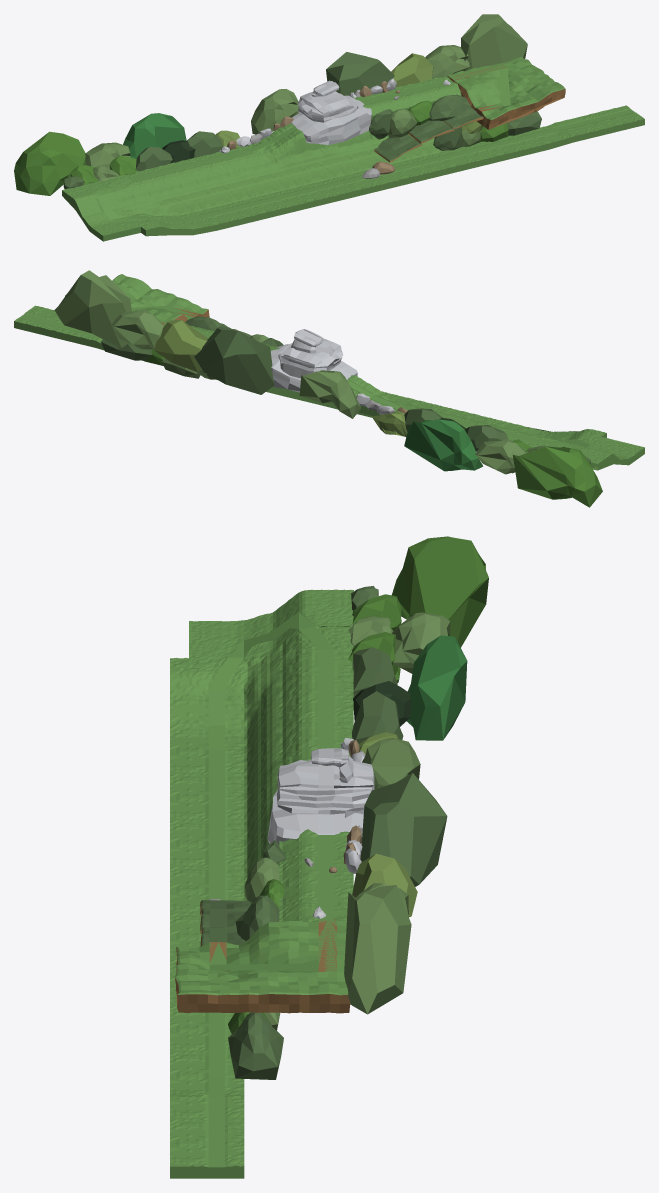
The model's file is 빽빽한숲_바닥산큐브2.fbx.
3 renders of one model, top to bottom at view 1: azimuth 30°, elevation 25°; view 2: azimuth 150°, elevation 25°; view 3: azimuth 270°, elevation 25°, orthographic. The views are drawn at different scales.
Visible parts, largest first — view 1: Island_C_, Island_B, Mountain4.005, Mountain7.003, Island_A, Rock_IslandC, Mountain7.005, Mountain4.004, Mountain4.002, Rock_IslandB, Mountain4.003, Mountain7.004 (+16 smaller); view 2: Island_C_, Mountain4.005, Mountain7.005, Mountain7.003, Mountain4.004, Island_B, Mountain4.002, Mountain7.004, Rock_IslandB, Mountain4.003, Mountain4.001, Rock_IslandC (+6 smaller); view 3: Island_C_, Island_B, Mountain7.003, Mountain4.005, Mountain7.005, Island_A, Mountain4.004, Rock_IslandB, Mountain.004, Rock_IslandC, Mountain4.001, Mountain4.002 (+7 smaller).
Boxes of the visible parts, left/top/right/bottom form: Island_C_: left=62, top=105, right=644, bottom=241; Island_B: left=447, top=57, right=565, bottom=129; Mountain4.005: left=14, top=131, right=85, bottom=195; Mountain7.003: left=461, top=14, right=527, bottom=71; Island_A: left=352, top=76, right=461, bottom=118; Rock_IslandC: left=291, top=95, right=371, bottom=144; Mountain7.005: left=326, top=52, right=394, bottom=95; Mountain4.004: left=123, top=113, right=186, bottom=159; Mountain4.002: left=251, top=89, right=298, bottom=134; Rock_IslandB: left=297, top=91, right=358, bottom=122; Mountain4.003: left=425, top=45, right=469, bottom=78; Mountain7.004: left=391, top=53, right=433, bottom=87; Island_C_: left=14, top=305, right=644, bottom=470; Mountain4.005: left=513, top=446, right=602, bottom=507; Mountain7.005: left=194, top=326, right=274, bottom=394; Mountain7.003: left=54, top=270, right=131, bottom=348; Mountain4.004: left=404, top=419, right=483, bottom=471; Island_B: left=112, top=274, right=209, bottom=326; Mountain4.002: left=299, top=370, right=361, bottom=418; Mountain7.004: left=154, top=320, right=208, bottom=371; Rock_IslandB: left=278, top=338, right=343, bottom=378; Mountain4.003: left=111, top=310, right=163, bottom=352; Mountain4.001: left=475, top=439, right=527, bottom=474; Rock_IslandC: left=270, top=344, right=357, bottom=392; Island_C_: left=170, top=589, right=353, bottom=1178; Island_B: left=174, top=919, right=350, bottom=1013; Mountain7.003: left=344, top=885, right=411, bottom=1014; Mountain4.005: left=392, top=536, right=488, bottom=647; Mountain7.005: left=360, top=773, right=447, bottom=886; Island_A: left=279, top=829, right=353, bottom=922; Mountain4.004: left=407, top=635, right=467, bottom=740; Rock_IslandB: left=277, top=759, right=374, bottom=817; Mountain.004: left=228, top=1012, right=283, bottom=1079; Rock_IslandC: left=267, top=790, right=363, bottom=844; Mountain4.001: left=392, top=612, right=450, bottom=673; Mountain4.002: left=362, top=738, right=420, bottom=789.
Size of the model in its own units: 13849 by 55847 by 9405.
